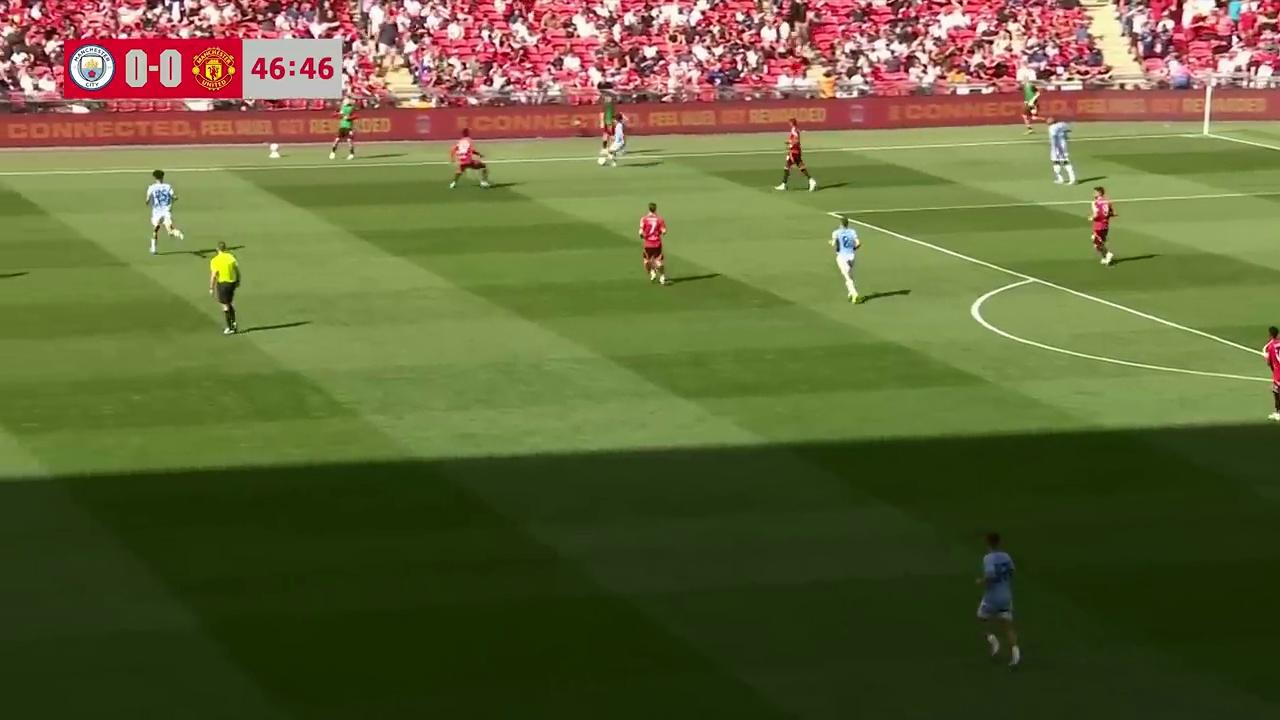ball: (597, 151, 610, 169)
player: (975, 531, 1021, 668), (144, 169, 183, 252), (828, 218, 860, 303), (776, 128, 814, 191), (638, 202, 666, 286), (1088, 185, 1117, 265), (448, 138, 491, 189), (598, 114, 628, 173), (1048, 119, 1074, 185), (1262, 326, 1280, 421)
referee: (205, 240, 241, 334)
